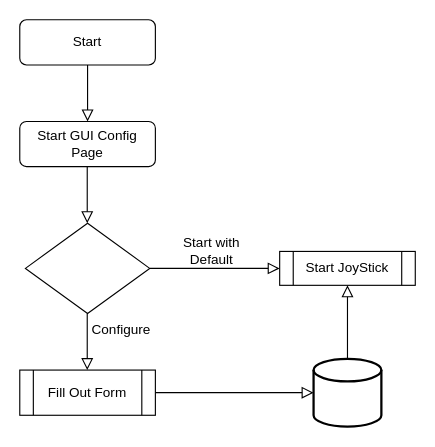
Some shapes in this 435 by 447 pixel diagram are drawn without their labels. The shapes that lost their labels are listed below. From the top down, each one's centre as x and y in pixels, then its label:
the point at 87,268: Configure | Start
the point at 347,392: config.json
